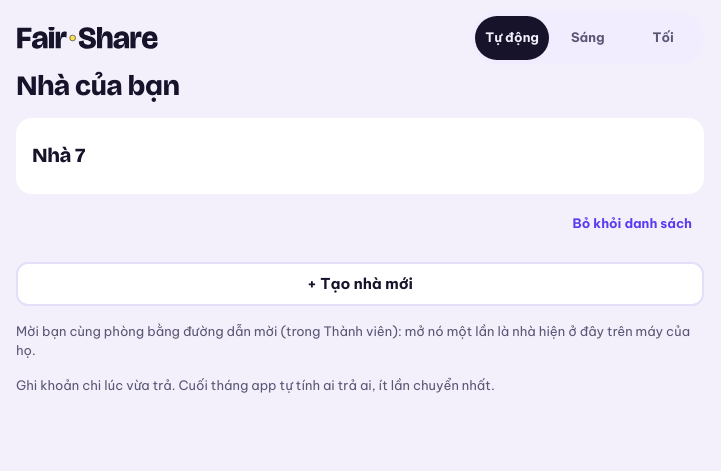
Test: with households the list comes first and creating a new one is folded away
The image size is (721, 471).
Expected: the link "Nhà 7" is shown, [16,118,704,194]
Click the heading "+ Tạo nhà mới" at (360,284), box [16,262,704,306]
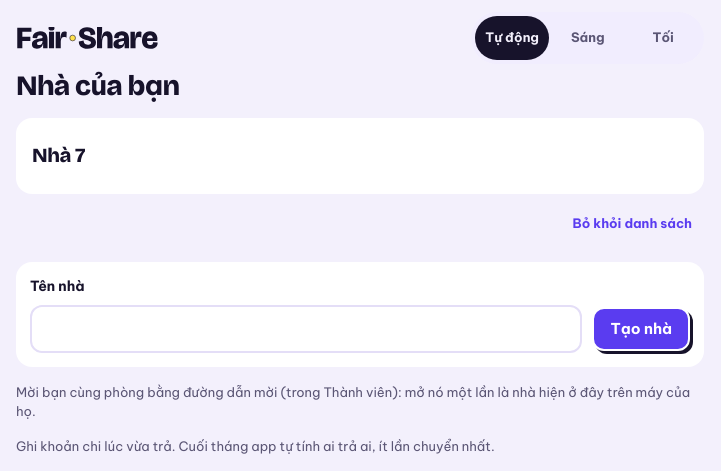
Result: the field labelled "Tên nhà" is shown at [30,304,582,352]
